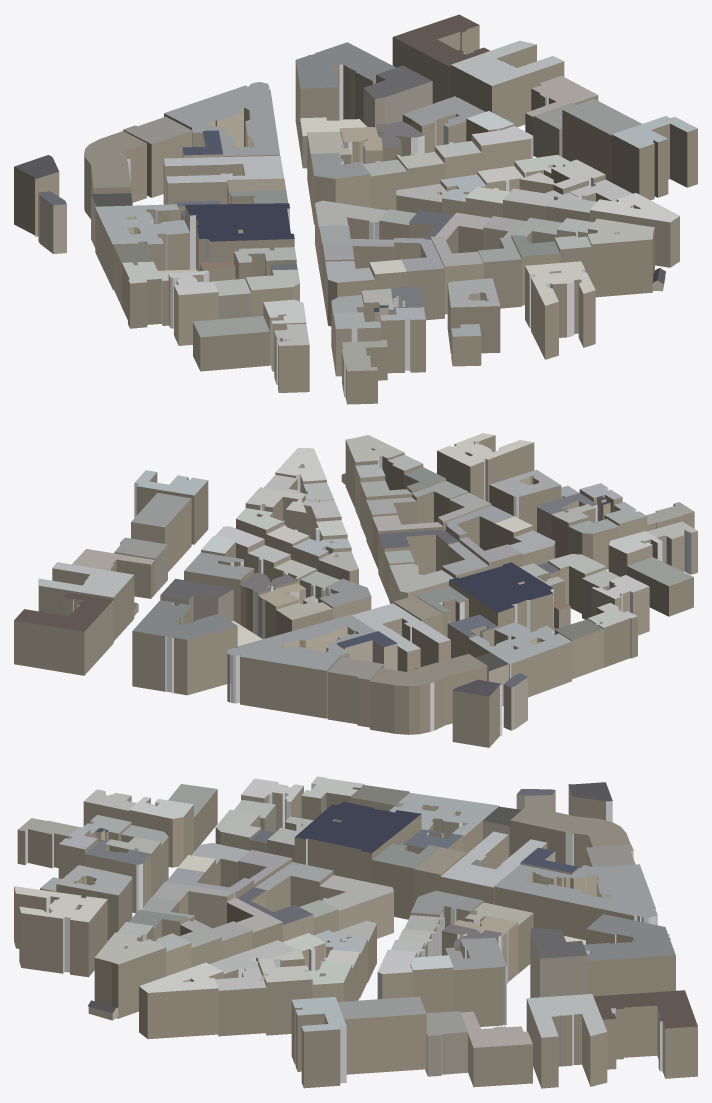
3 views of the same model, one above another, from view 1: azimuth 30°, elevation 25°; view 2: azimuth 150°, elevation 25°; view 3: azimuth 270°, elevation 25° (orthographic). The views are drawn at different scales.
Visible parts, largest first — view 1: tuile; view 2: tuile; view 3: tuile.
Boxes of the visible parts, x1,y1,x2,y2 form: tuile: (14, 14, 697, 404); tuile: (14, 433, 697, 747); tuile: (14, 776, 697, 1088).
Bounding box in the file's own units: 274 × 34.78 × 284.
